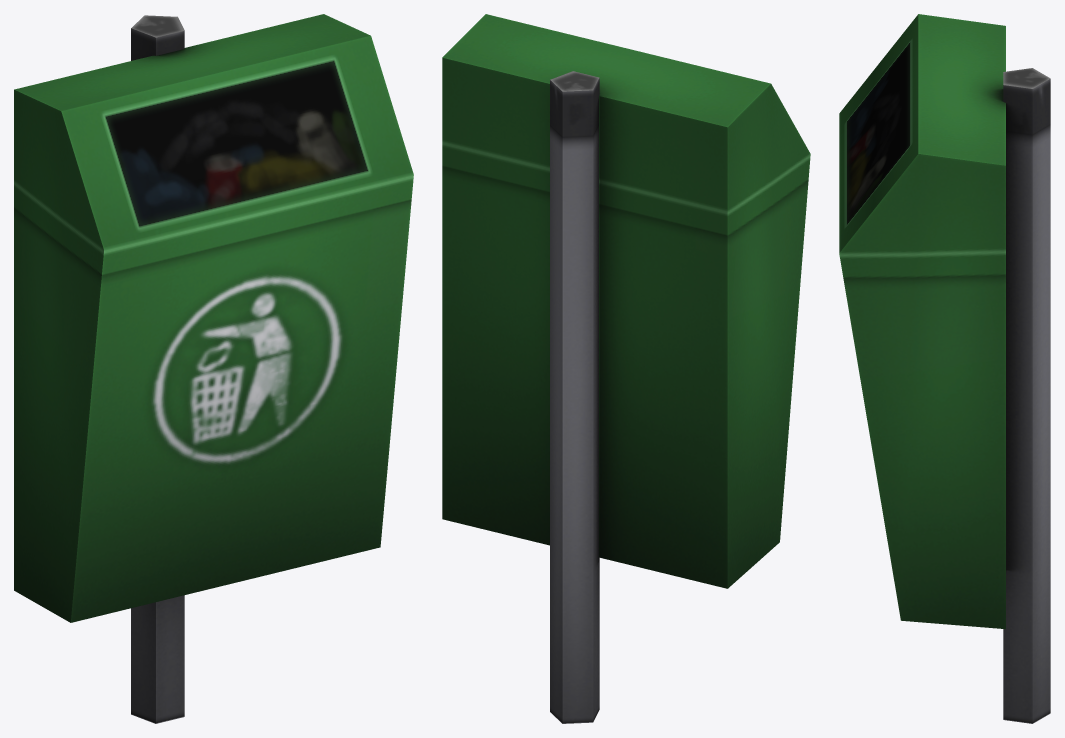
Rendered from Vuilbak_enkel.FBX.
3 renders of one model, left to right at view 1: azimuth 30°, elevation 25°; view 2: azimuth 150°, elevation 25°; view 3: azimuth 270°, elevation 25°, orthographic. The views are drawn at different scales.
Parts seen in each view (by area): view 1: Cylinder01; view 2: Cylinder01; view 3: Cylinder01.
Boxes of the visible parts, x1,y1,x2,y2 form: Cylinder01: [14, 14, 413, 723]; Cylinder01: [442, 14, 810, 723]; Cylinder01: [839, 14, 1050, 723].
Size of the model in its own units: 37.79 by 80 by 24.16.
Materials: 1 (1 with a texture image).
